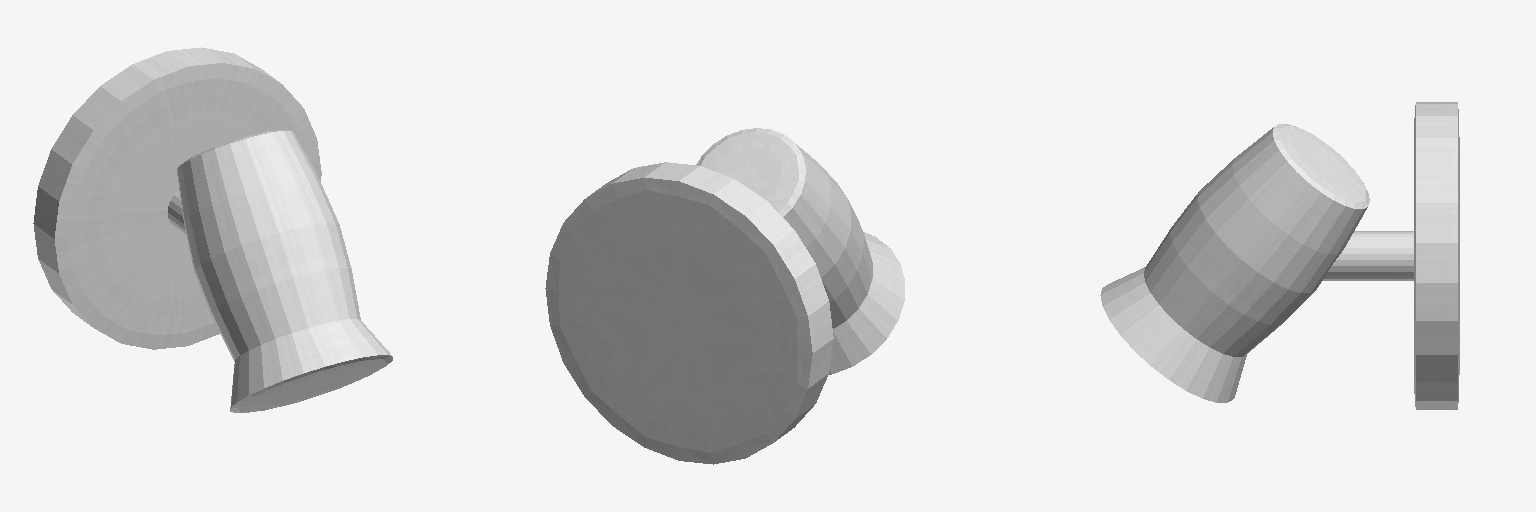
3 renders of one model, left to right at view 1: azimuth 30°, elevation 25°; view 2: azimuth 150°, elevation 25°; view 3: azimuth 270°, elevation 25°, orthographic.
Size of the model in its own units: 0.1353 by 0.1353 by 0.1575.
2 materials, 1 textured.